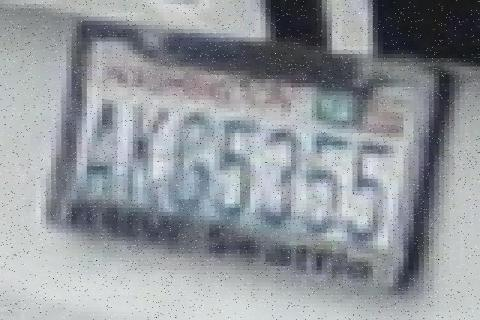LicensePlate: (67, 10, 435, 286)
